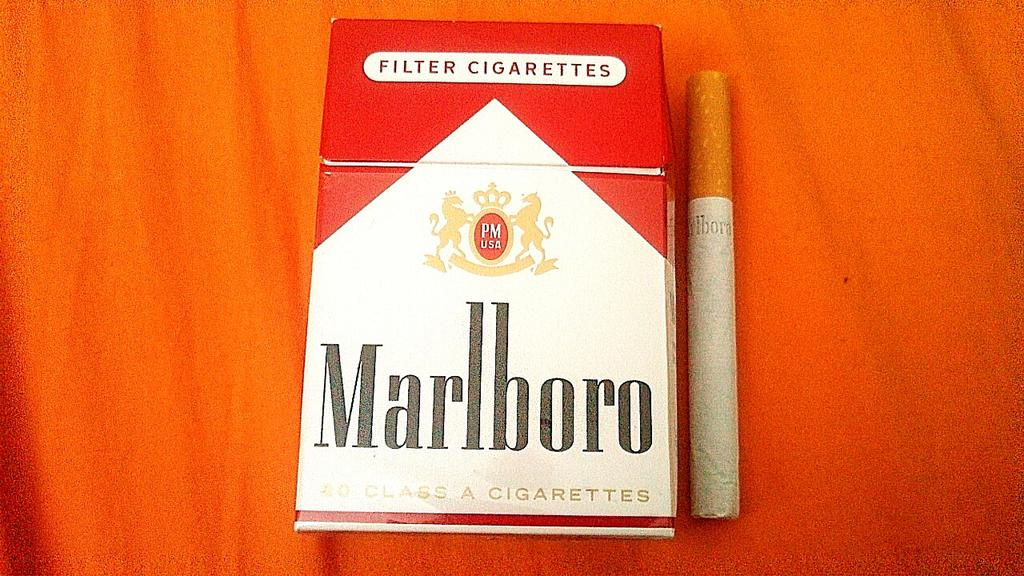marlboro_red: (321, 19, 667, 528)
